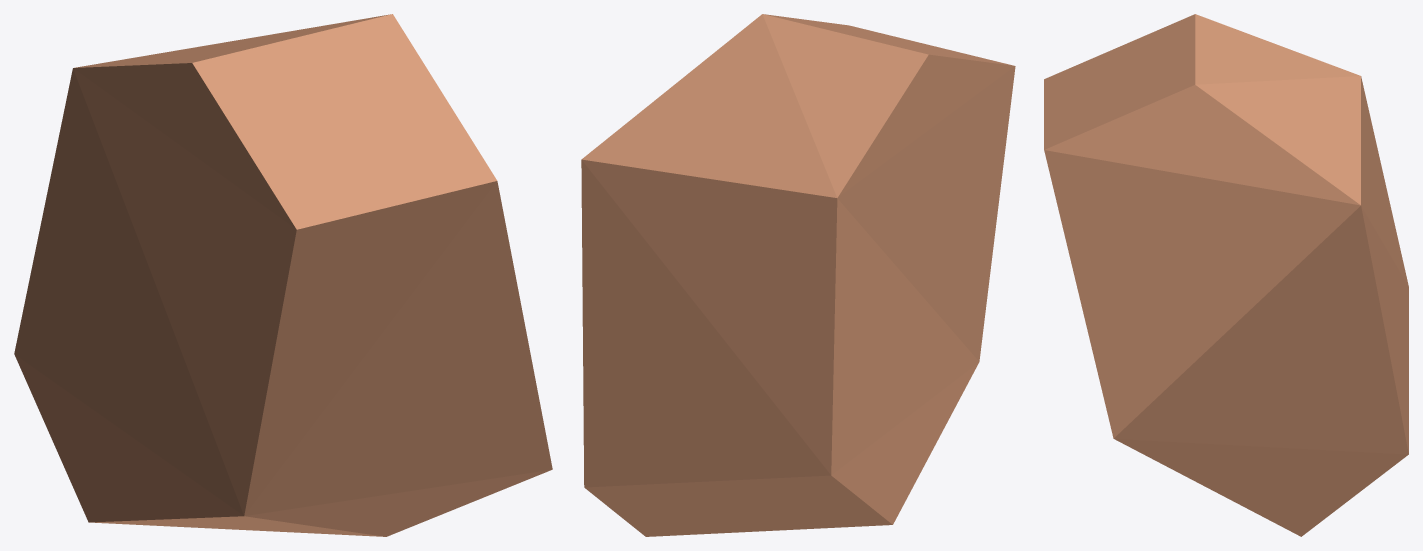
File: right_hand.dae
The picture shows the model from 3 angles, left to right: view 1: azimuth 30°, elevation 25°; view 2: azimuth 150°, elevation 25°; view 3: azimuth 270°, elevation 25°; orthographic projection. The views are drawn at different scales.
Parts seen in each view (by area): view 1: right_hand; view 2: right_hand; view 3: right_hand.
Boxes of the visible parts, x1,y1,x2,y2 form: right_hand: (14,14,552,536); right_hand: (581,14,1015,536); right_hand: (1044,14,1408,536).
Size of the model in its own units: 0.0876 by 0.1145 by 0.1485.
